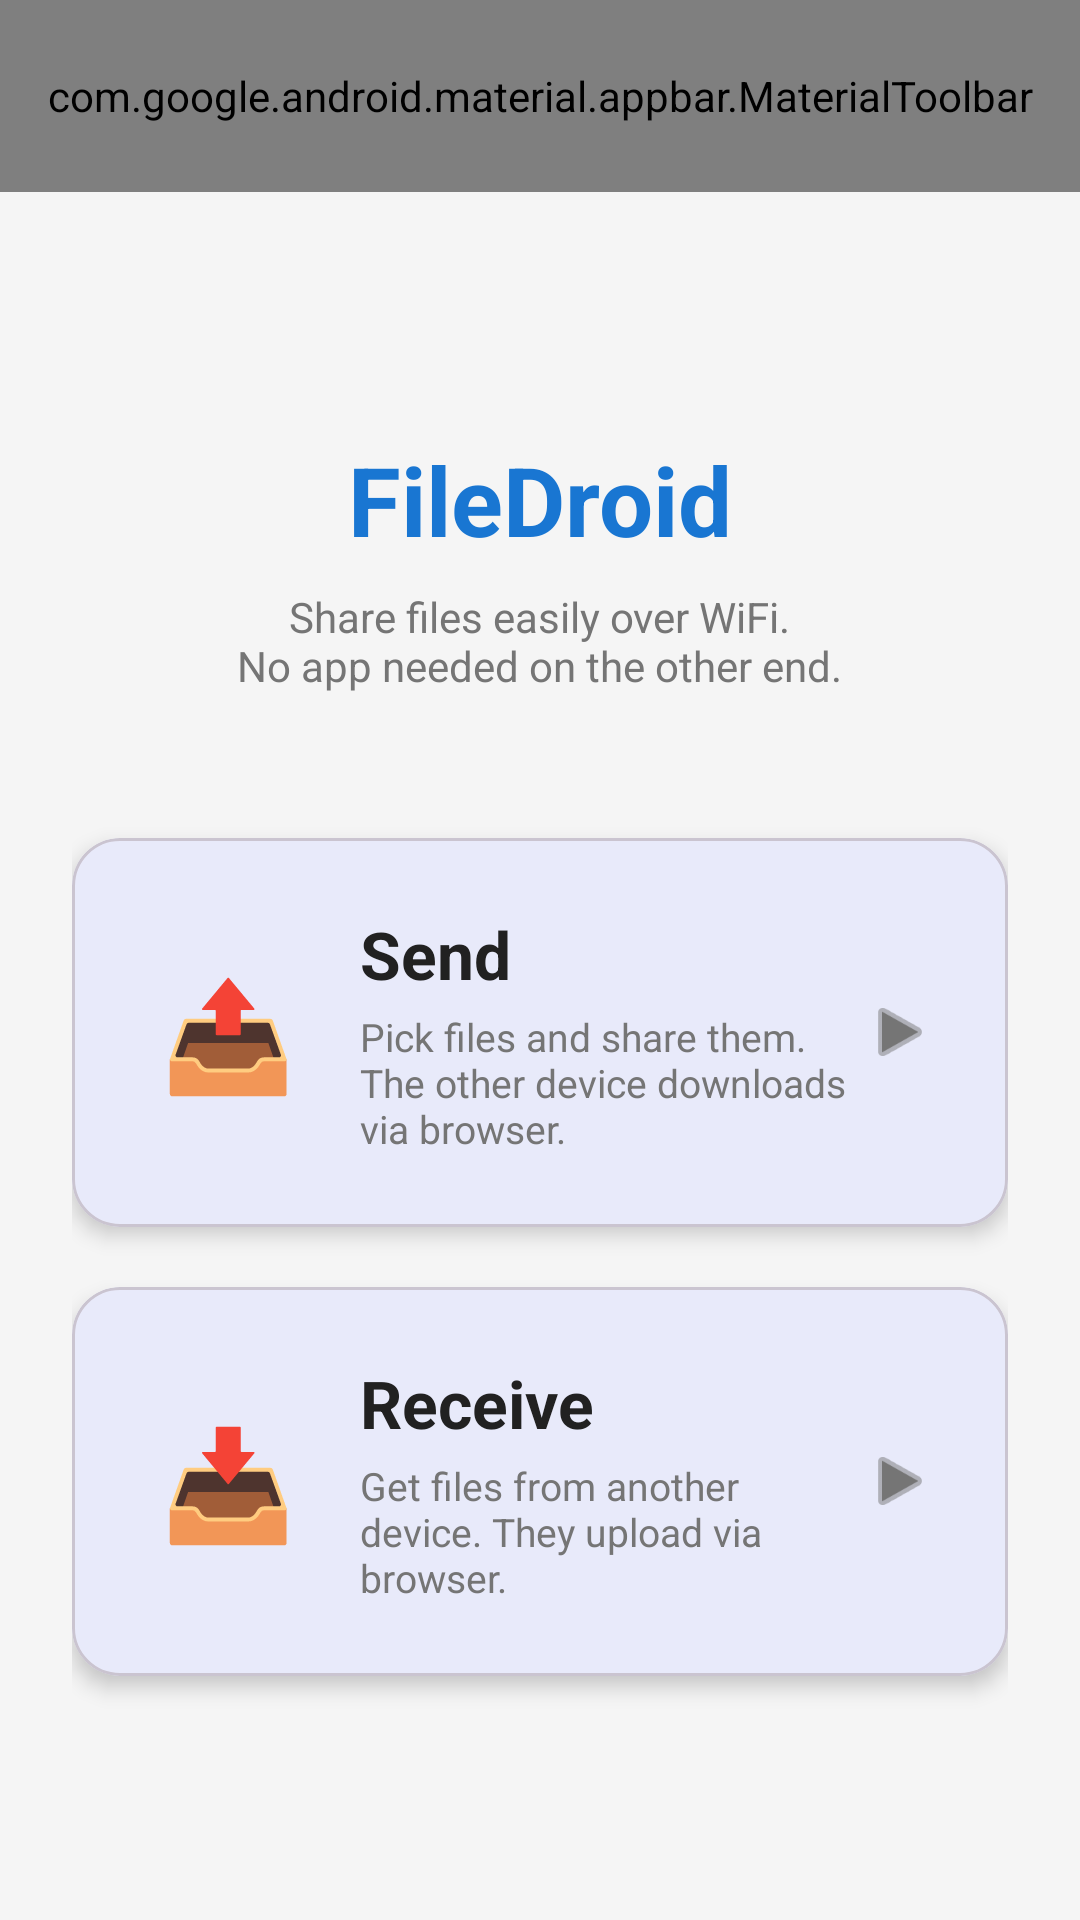

Named icons in this screenshot (1080px x 1920px) and their centers, point (x, y):
Go: point (900, 1032), point (900, 1481)
